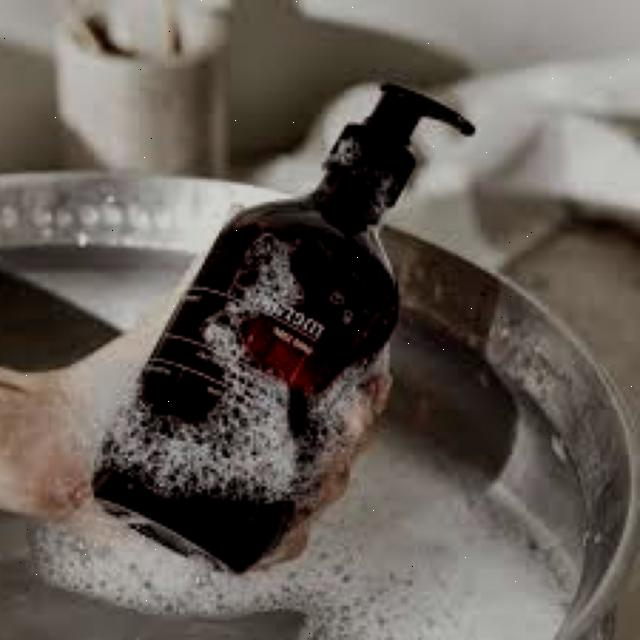liquid soap: (78, 73, 478, 585)
